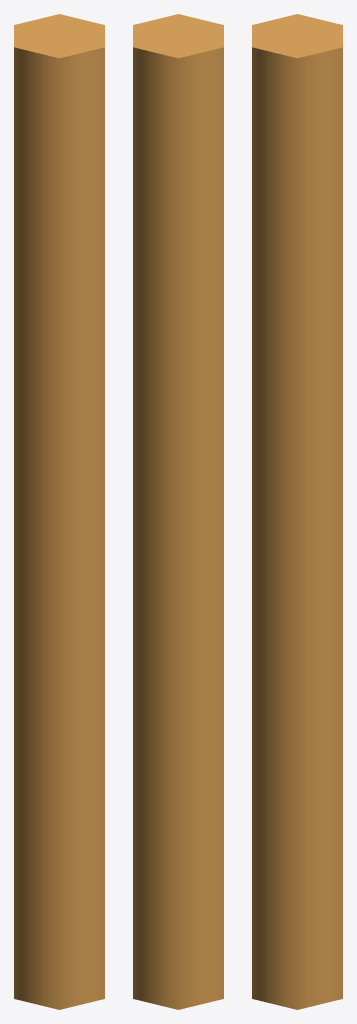
File: torch_01.glb
3 views of the same model, side by side, from view 1: azimuth 30°, elevation 25°; view 2: azimuth 150°, elevation 25°; view 3: azimuth 330°, elevation 25° (orthographic).
Parts seen in each view (by area): view 1: torch; view 2: torch; view 3: torch.
Boxes of the visible parts, x1,y1,x2,y2 form: torch: [14, 14, 104, 1009]; torch: [133, 14, 223, 1009]; torch: [252, 14, 342, 1009].
Bounding box in the file's own units: 0.2 × 2 × 0.1732.
